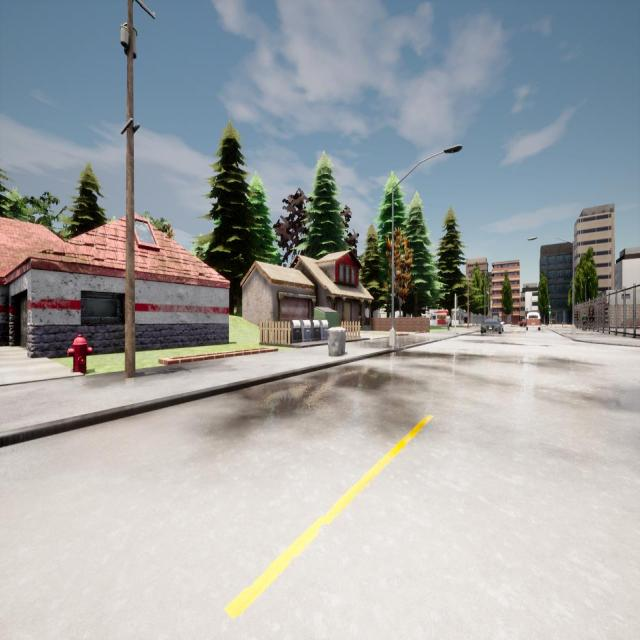Pedestrian: (445, 312, 451, 331), (582, 311, 588, 330)
Vehicle: (480, 319, 503, 335), (526, 311, 541, 330), (519, 319, 527, 328)
traffic_light: (548, 306, 552, 314), (456, 298, 458, 310)
